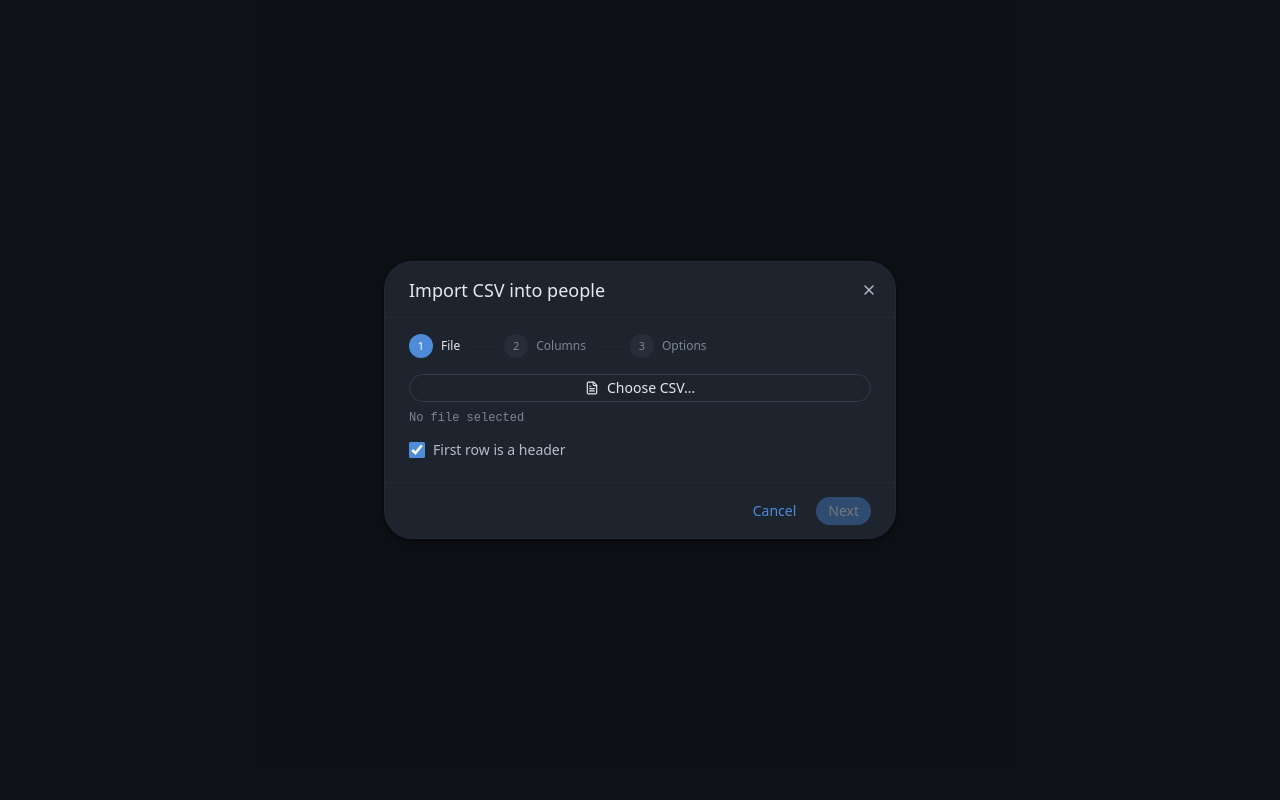
Scenario: ImportWizard › goes back without losing the file already chosen
Click the button "Choose CSV…" at (640, 388), box [409,374,871,402]
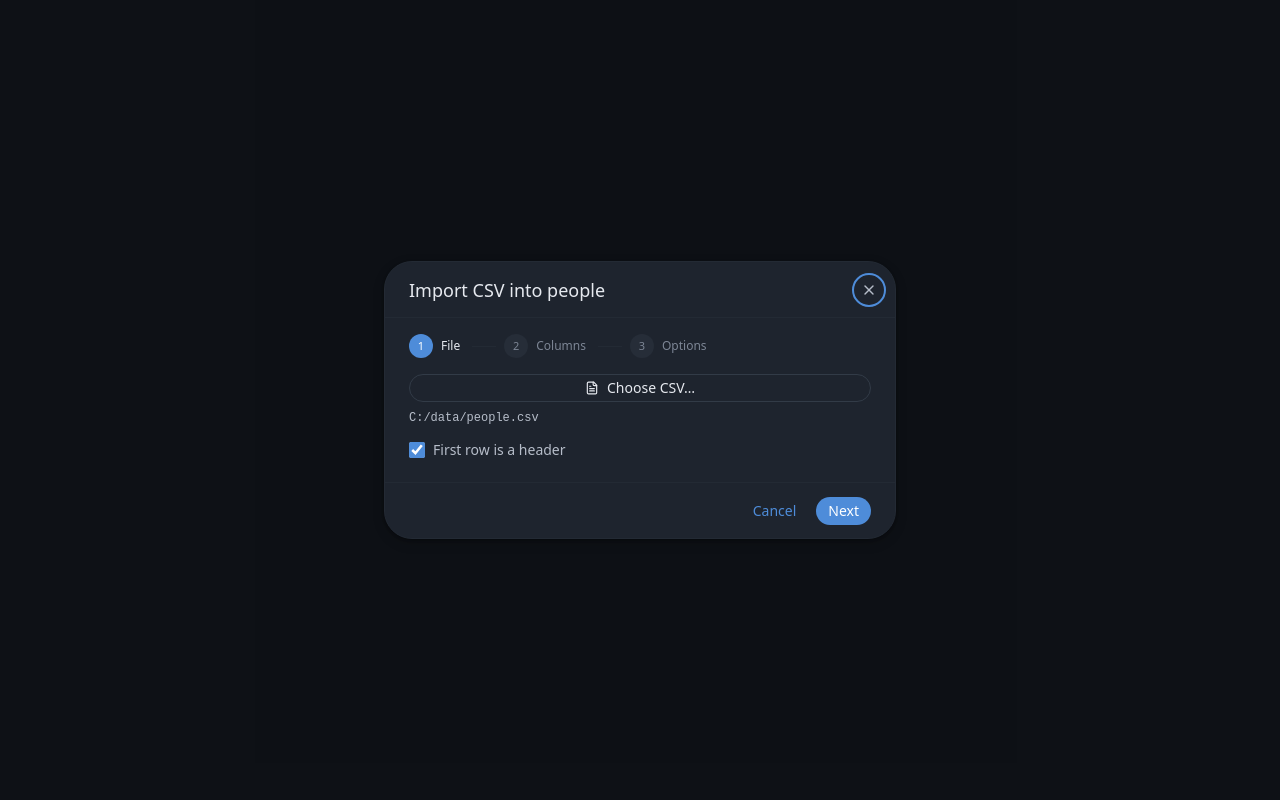
Expected: the text "C:/data/people.csv" is shown, [409,411,539,425]
Click the button "Next" at (844, 510), box [816,496,871,524]
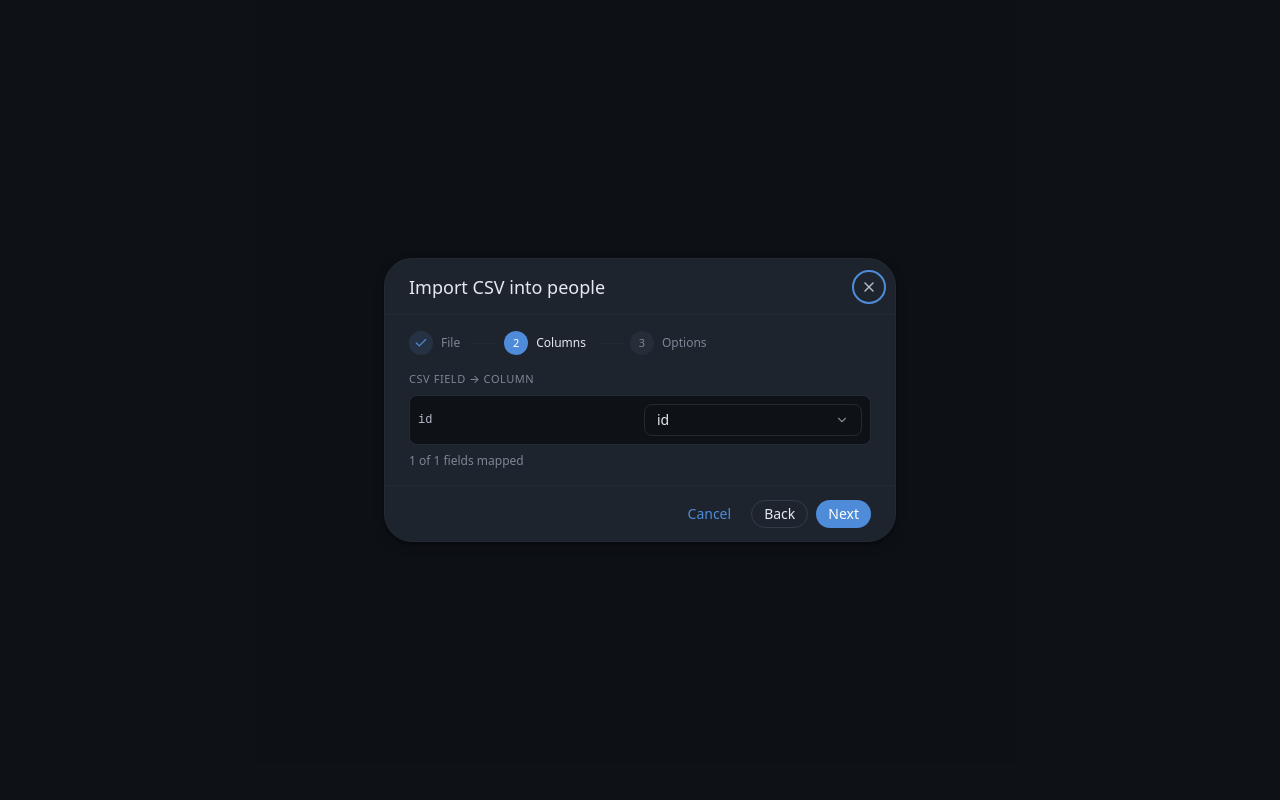
Click the button "Back" at (780, 514), box [751,500,808,528]
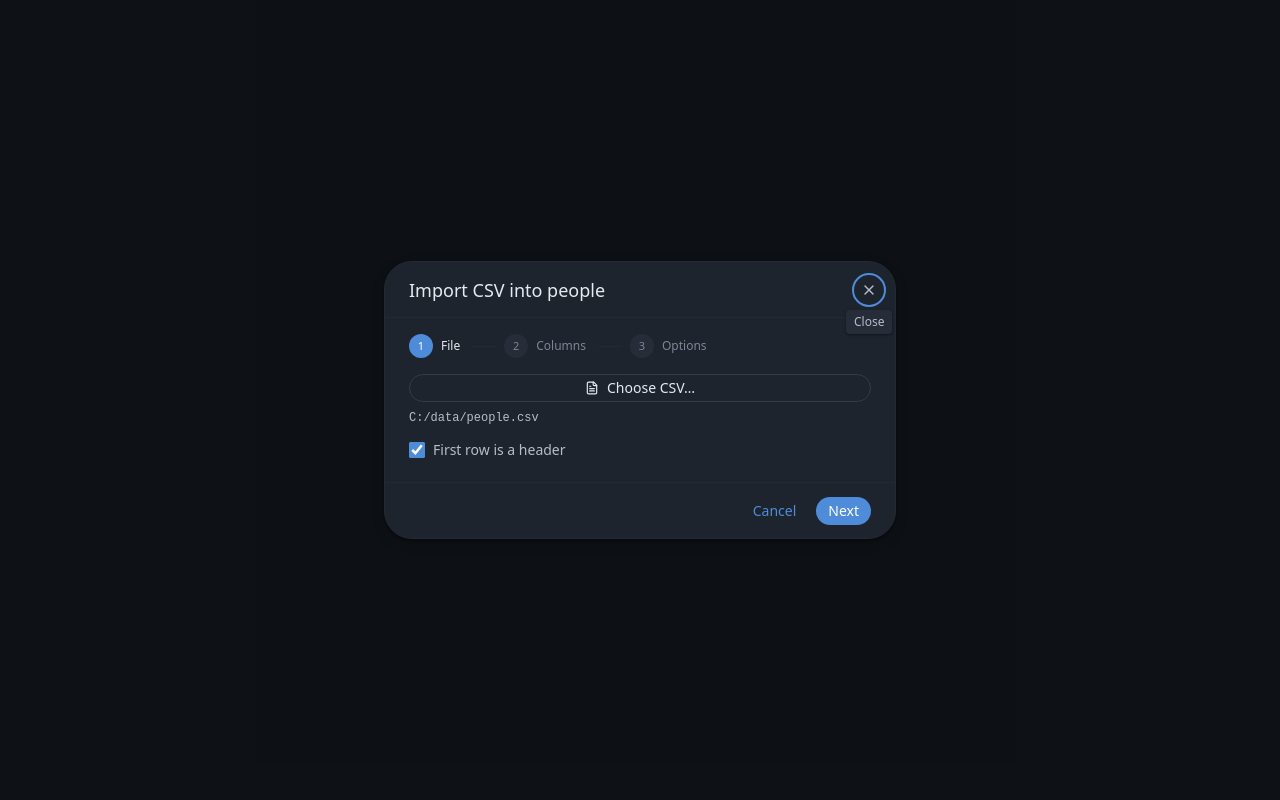
Expected: the text "C:/data/people.csv" is shown, [409,411,539,425]
